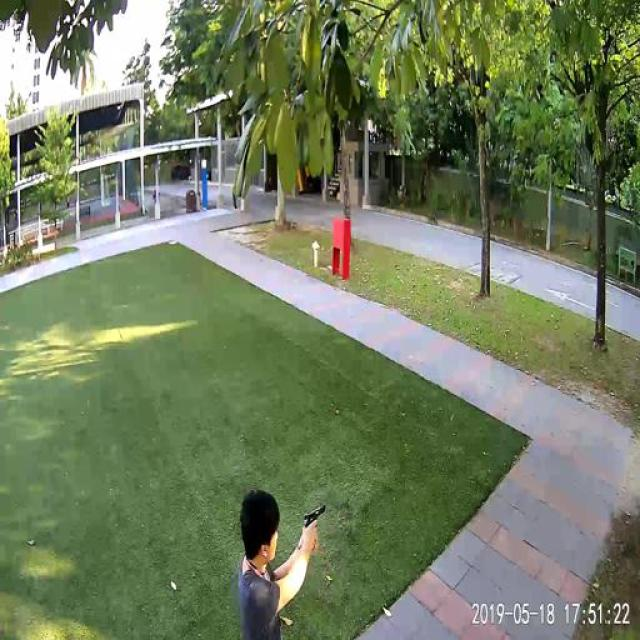senjata_api: (303, 500, 329, 530)
